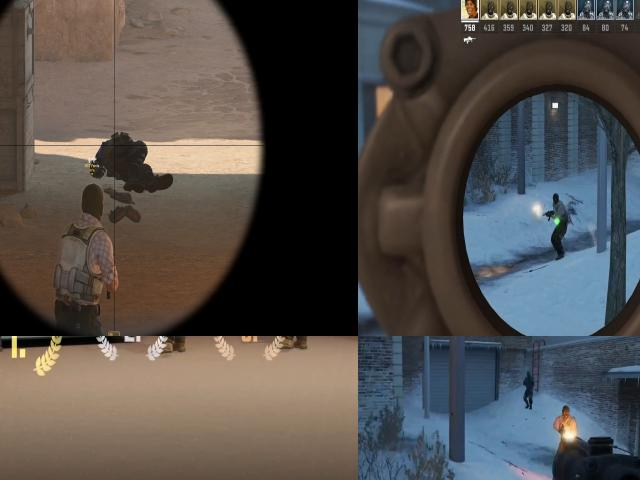CT: (523, 368, 538, 399)
CT-Head: (524, 372, 532, 384)
Dead: (88, 133, 172, 190)
T: (53, 184, 114, 336), (549, 190, 568, 246), (556, 402, 577, 445)
T-Head: (78, 184, 105, 216), (559, 403, 573, 421), (552, 191, 562, 206)
